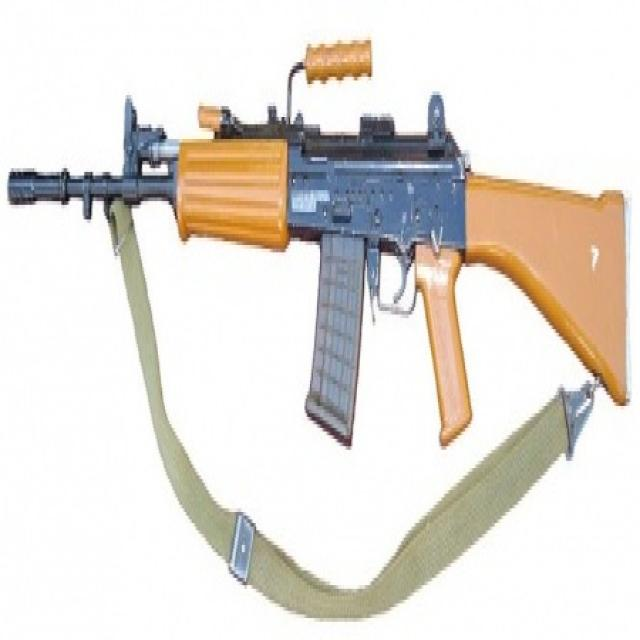rifle: (1, 33, 636, 629)
